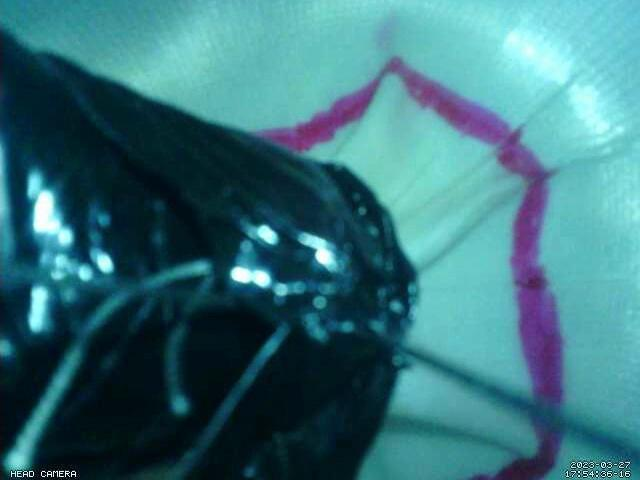red-circle: (250, 55, 565, 480)
